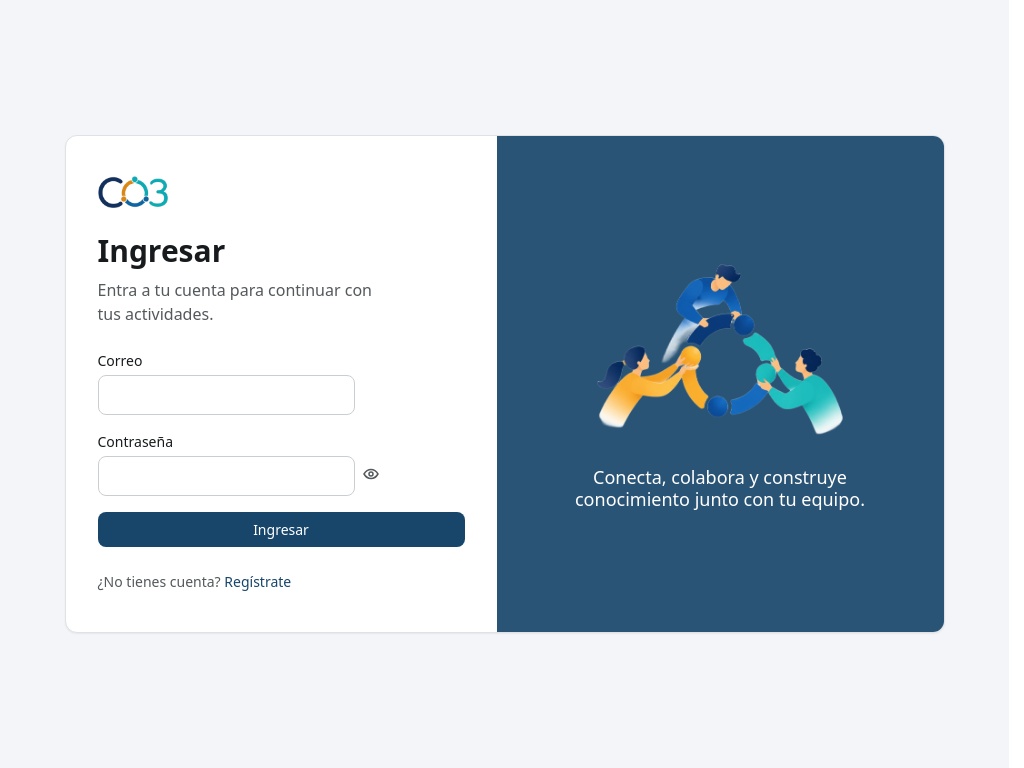
PantallaIngresar › bloquea el envío y marca los campos obligatorios vacíos
Click the button "Ingresar" at (281, 529), box x1=98 y1=512 x2=464 y2=547
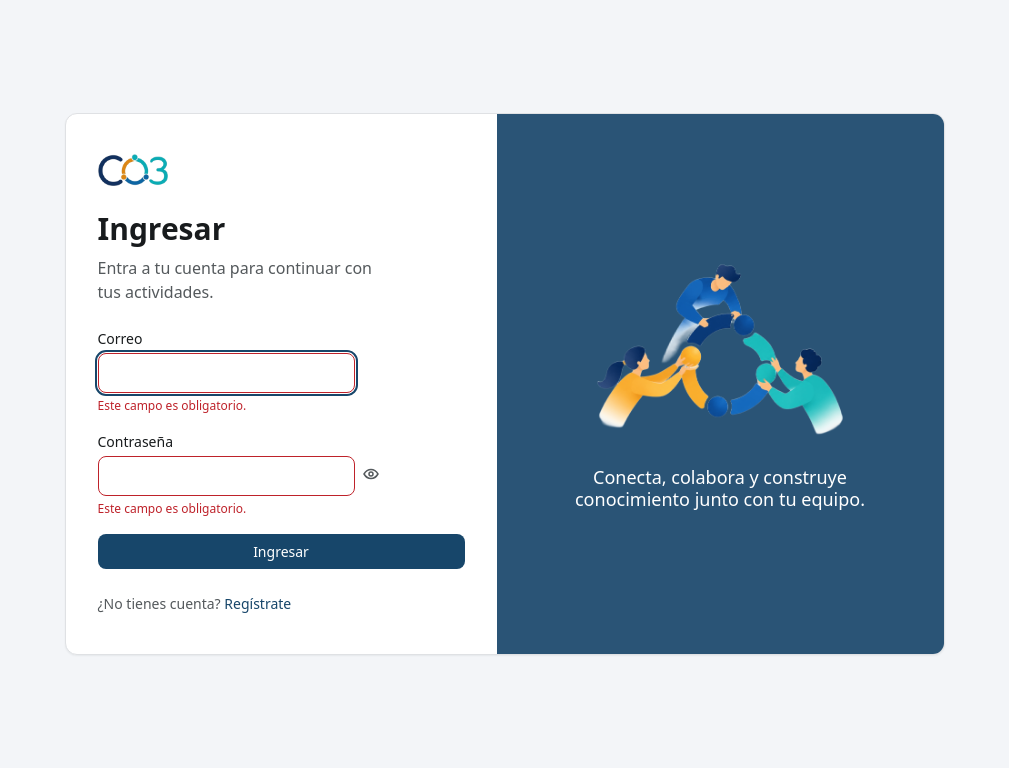
Expected: the text "Este campo es obligatorio." is shown 2 times, x1=98 y1=396 x2=246 y2=414; x1=98 y1=500 x2=246 y2=516
